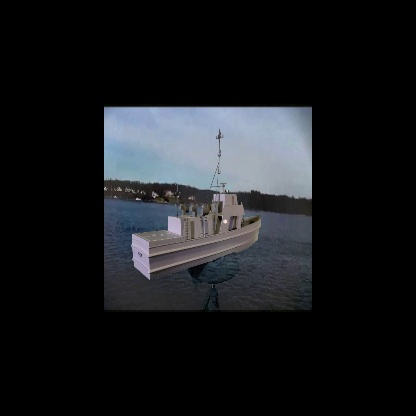YP689: (130, 121, 260, 284)
